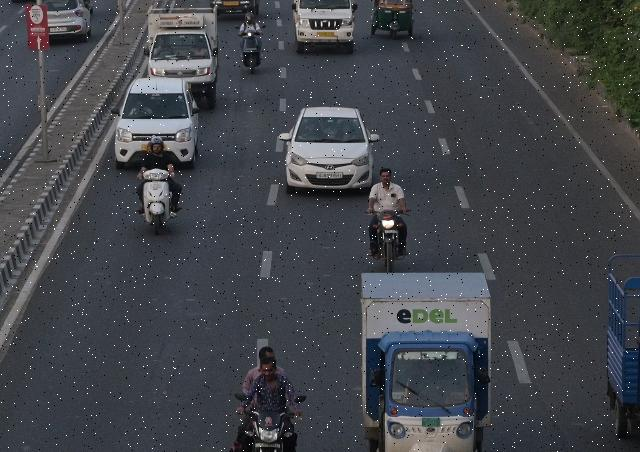With Helmet: (150, 138, 163, 154), (243, 12, 254, 24)
Without Helmet: (258, 358, 280, 384), (379, 167, 393, 185), (146, 143, 152, 155)
